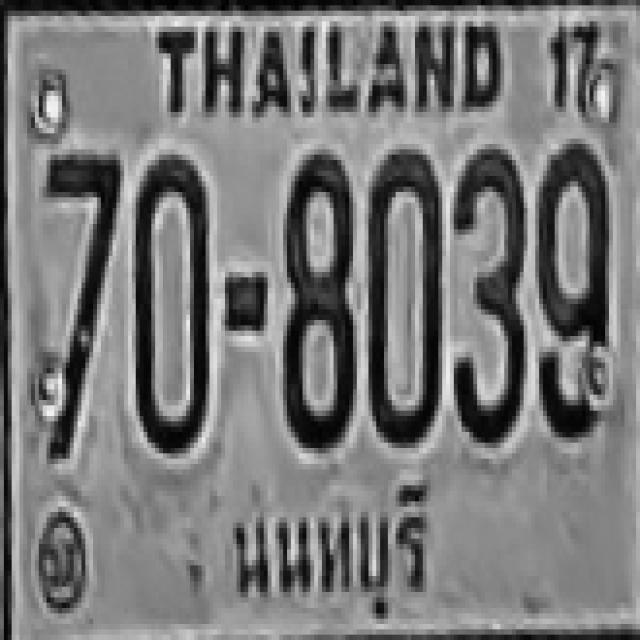0: (134, 152, 207, 451), (367, 144, 440, 443)
3: (450, 144, 524, 437)
7: (41, 150, 118, 422), (43, 149, 116, 331)
8: (279, 149, 353, 443)
9: (535, 136, 609, 435)
Nonthaburi: (220, 470, 442, 623)
